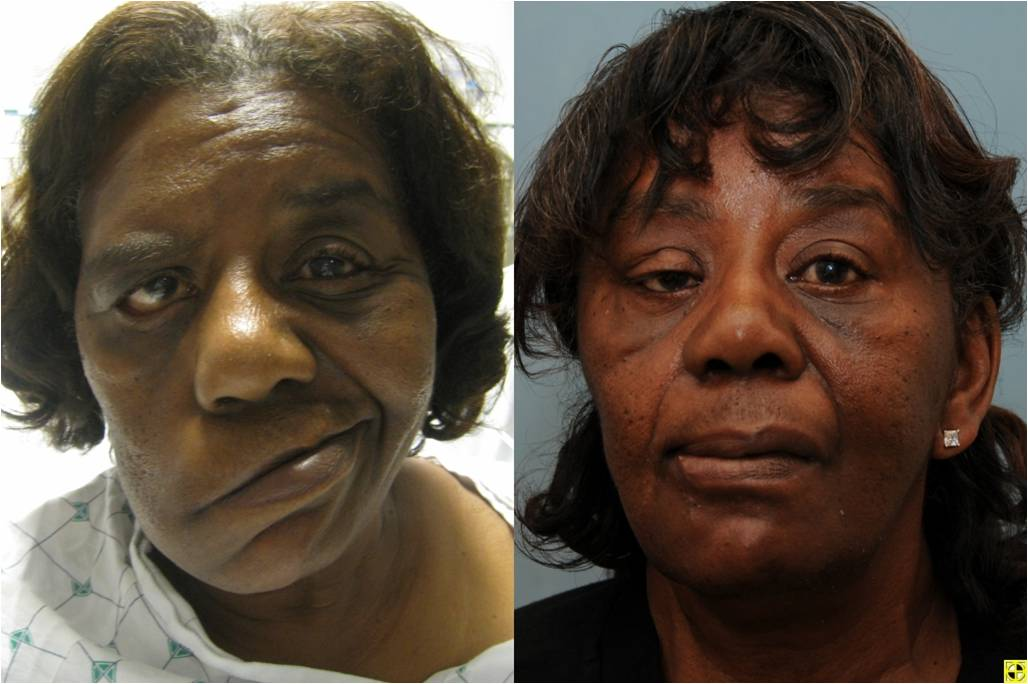stroke: (73, 166, 420, 585)
